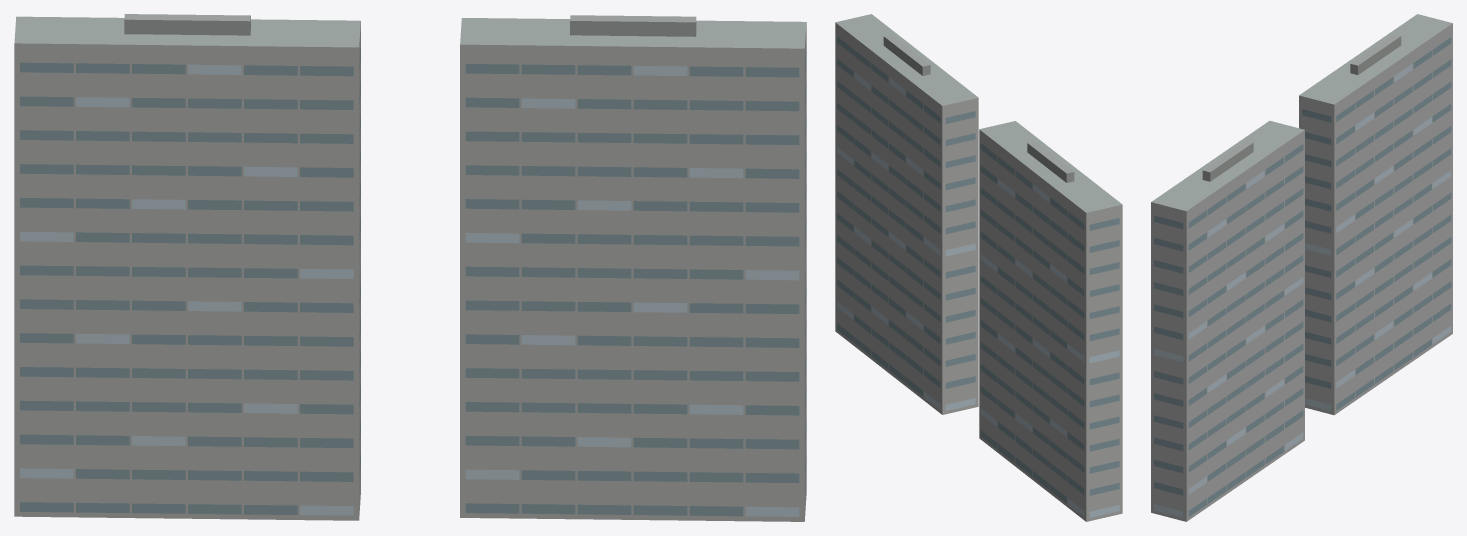
The model's file is apt-a10025657.glb.
The picture shows the model from 3 angles, left to right: view 1: azimuth 30°, elevation 25°; view 2: azimuth 150°, elevation 25°; view 3: azimuth 270°, elevation 25°; orthographic projection. The views are drawn at different scales.
Parts seen in each view (by area): view 1: apt-a10025657; view 2: apt-a10025657; view 3: apt-a10025657.
Part boxes in pixels (x1,y1,x2,y2): apt-a10025657: [14, 14, 806, 521]; apt-a10025657: [835, 14, 1122, 521]; apt-a10025657: [1151, 14, 1452, 521].
Bounding box in the file's own units: 107 × 81 × 69.22.
